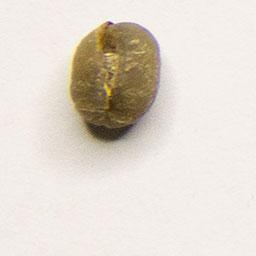peaberry: (66, 18, 164, 131)
